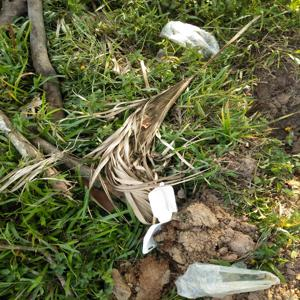plastic: (168, 256, 283, 297), (138, 183, 180, 253), (159, 12, 219, 60)
